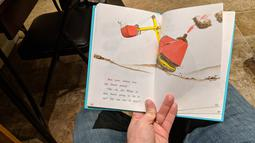text block: (100, 75, 144, 104)
